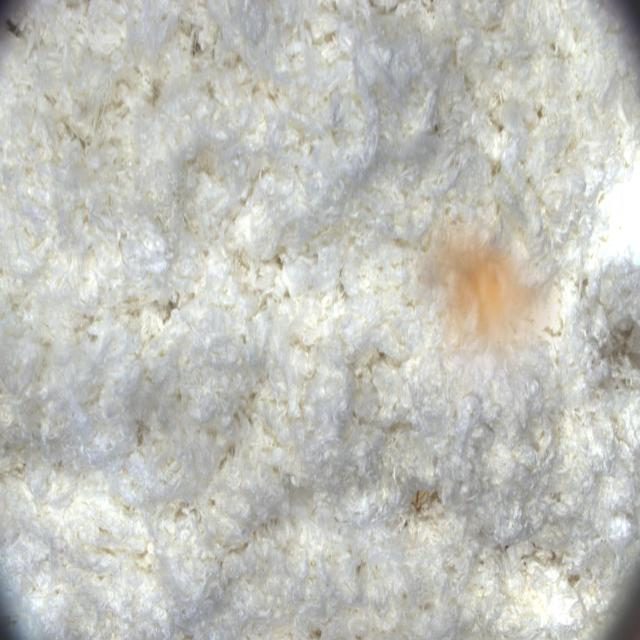dust: (402, 213, 562, 415)
